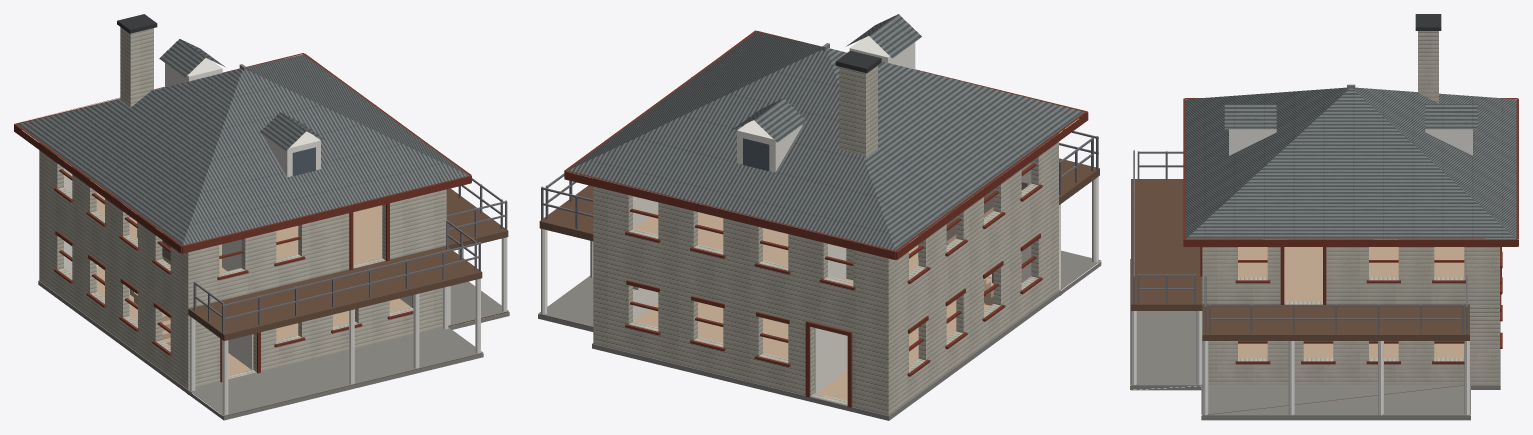
The model's file is cr-foursquare.towns-v2.lod0.glb.
The picture shows the model from 3 angles, left to right: view 1: azimuth 30°, elevation 25°; view 2: azimuth 150°, elevation 25°; view 3: azimuth 270°, elevation 25°; orthographic projection. The views are drawn at different scales.
Visible parts, largest first — view 1: cr-foursquare; view 2: cr-foursquare; view 3: cr-foursquare.
Boxes of the visible parts, <box> form: cr-foursquare: <box>14,14,509,420</box>; cr-foursquare: <box>538,14,1101,420</box>; cr-foursquare: <box>1130,14,1518,420</box>.
Bounding box in the file's own units: 13.07 × 10.19 × 13.07.
5 materials, 2 textured.
